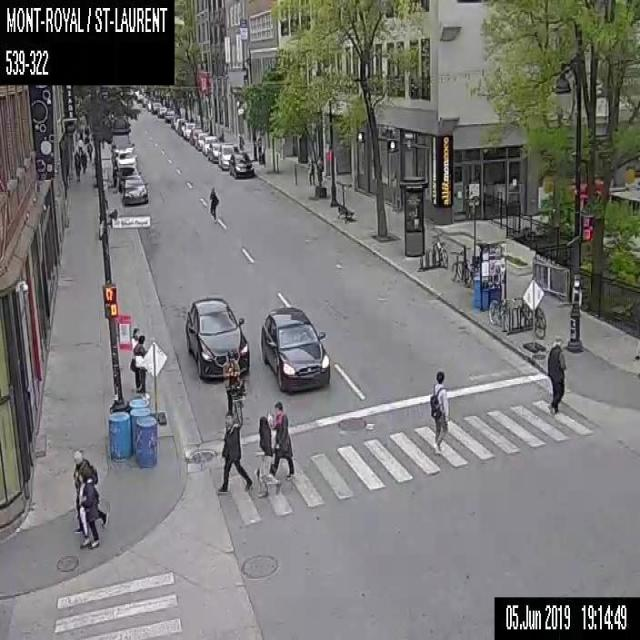cyclist: (222, 349, 247, 425)
pedestrian: (217, 412, 252, 493), (77, 467, 109, 547), (267, 401, 295, 481), (254, 414, 280, 497), (72, 448, 97, 534), (429, 369, 449, 451), (546, 336, 566, 412), (129, 334, 146, 395), (130, 327, 140, 388), (208, 187, 217, 221), (308, 157, 314, 184), (74, 155, 80, 181), (80, 149, 86, 174), (77, 134, 82, 154), (87, 141, 92, 160), (73, 148, 80, 160)
vehicle: (260, 304, 329, 389), (185, 296, 249, 380), (122, 177, 147, 203), (116, 165, 140, 192), (228, 152, 254, 176), (111, 134, 136, 158), (218, 142, 238, 168), (115, 149, 135, 170), (202, 134, 217, 156), (206, 141, 221, 162), (194, 131, 208, 149), (189, 127, 202, 145), (183, 121, 195, 138), (173, 117, 186, 130), (177, 119, 187, 134), (163, 109, 174, 122), (170, 113, 179, 126), (158, 105, 168, 116), (147, 99, 155, 110), (152, 101, 160, 111), (142, 96, 149, 105), (136, 93, 143, 102)
